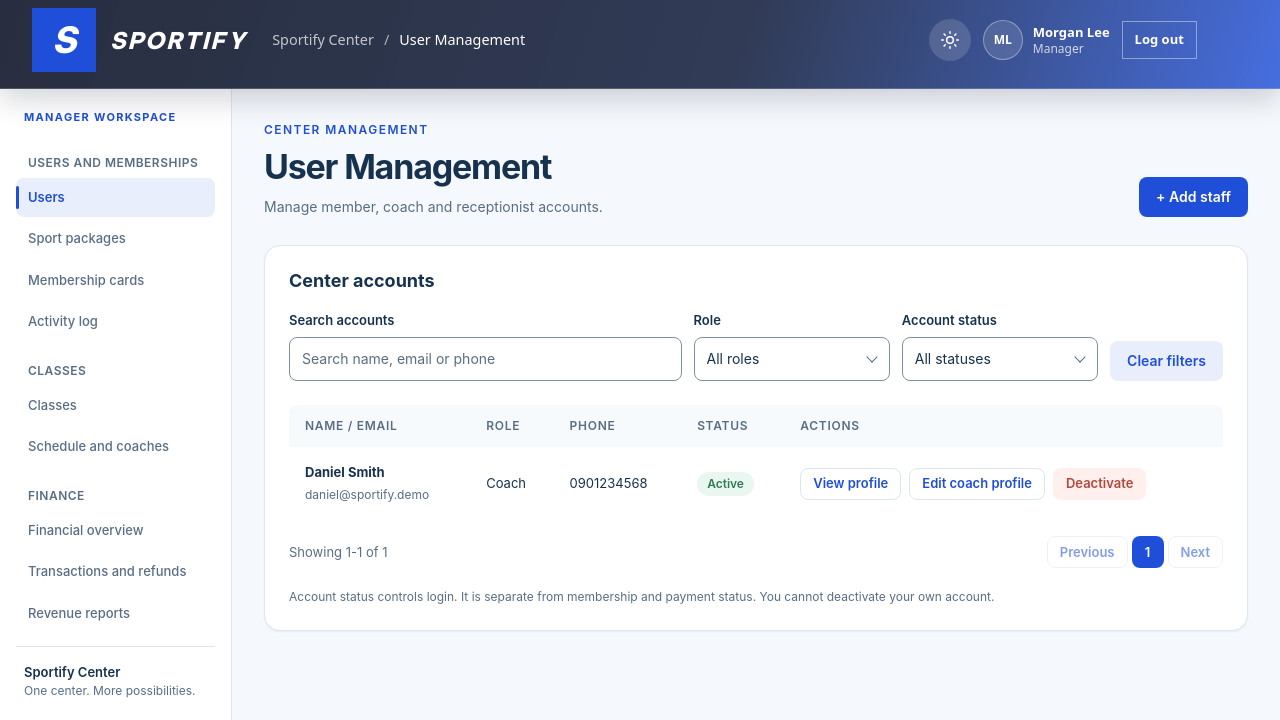
FE-06 manager access and accounts › retains inputs and shows backend field errors for duplicate staff emails
Click the button "+ Add staff": (1194, 197) [1139,177,1248,217]
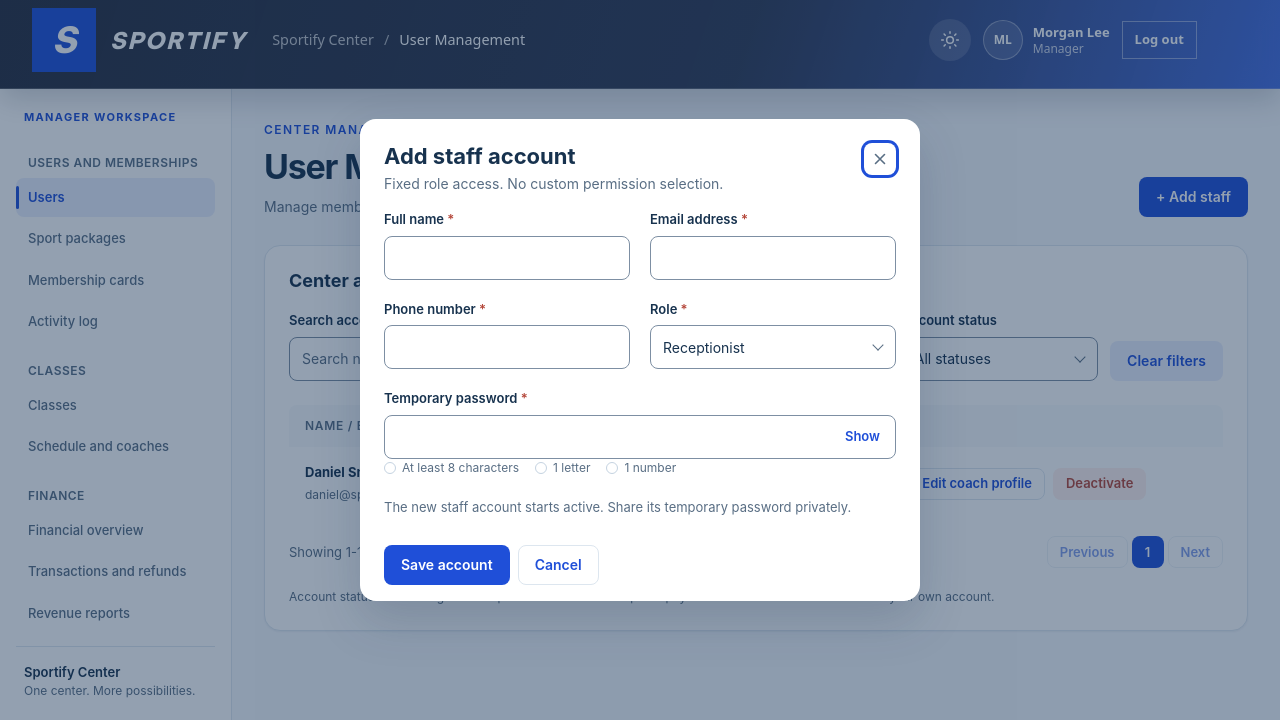
In the field labelled "Full name *": (507, 258) [384,236,630,280], type "Reception Example"
In the field labelled "Email address *": (773, 258) [650,236,896,280], type "existing@example.com"
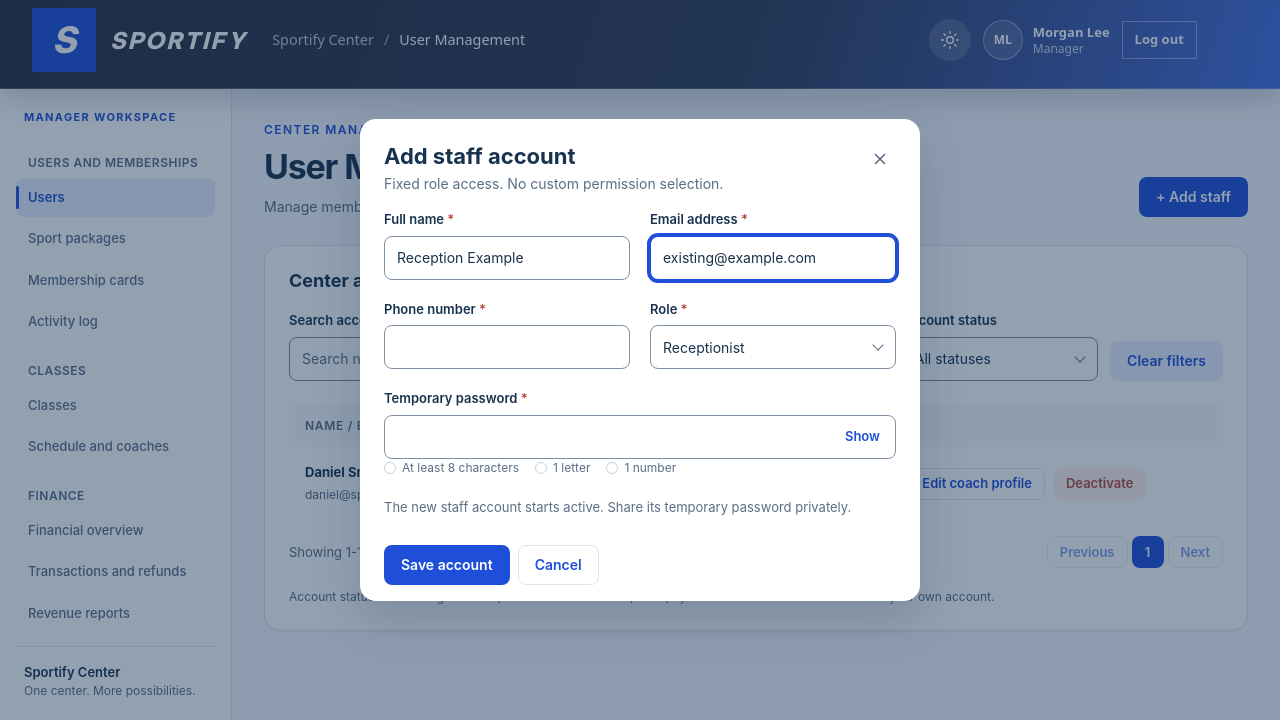
In the field labelled "Phone number *": (507, 347) [384,325,630,369], type "0901234567"
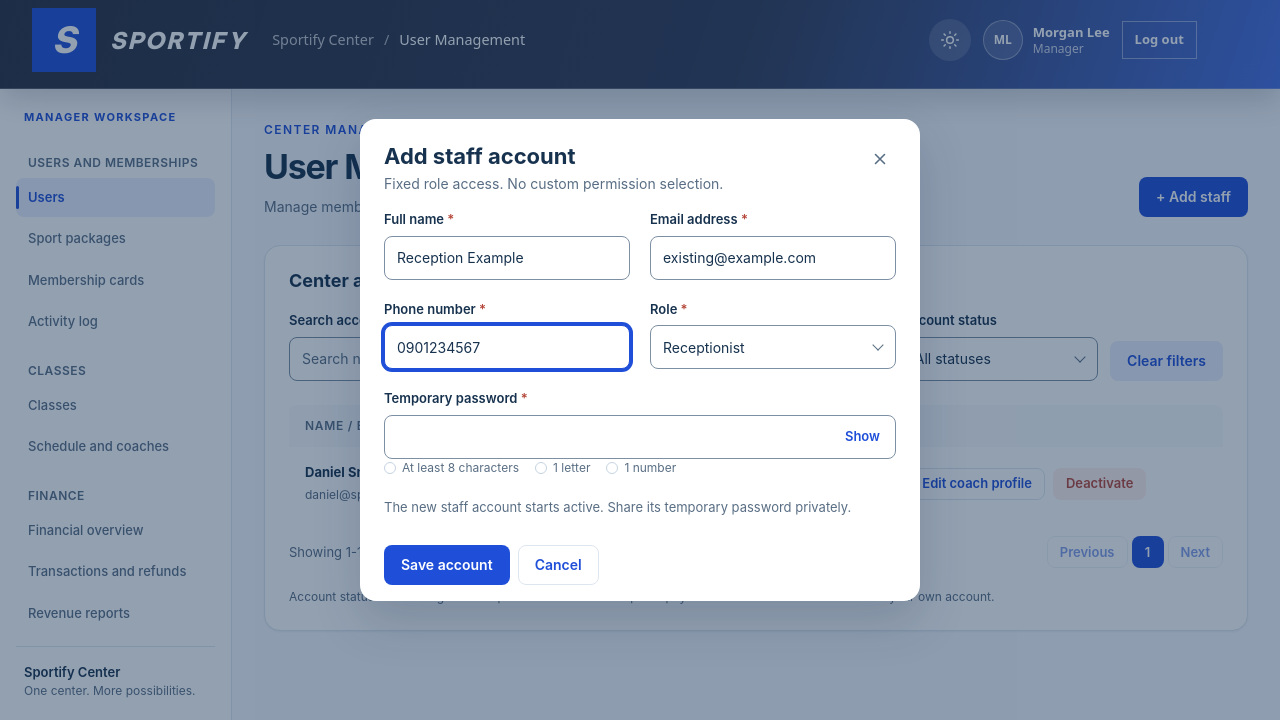
In the password field labelled "Temporary password *": (640, 436) [384,414,896,458], type "Example123"
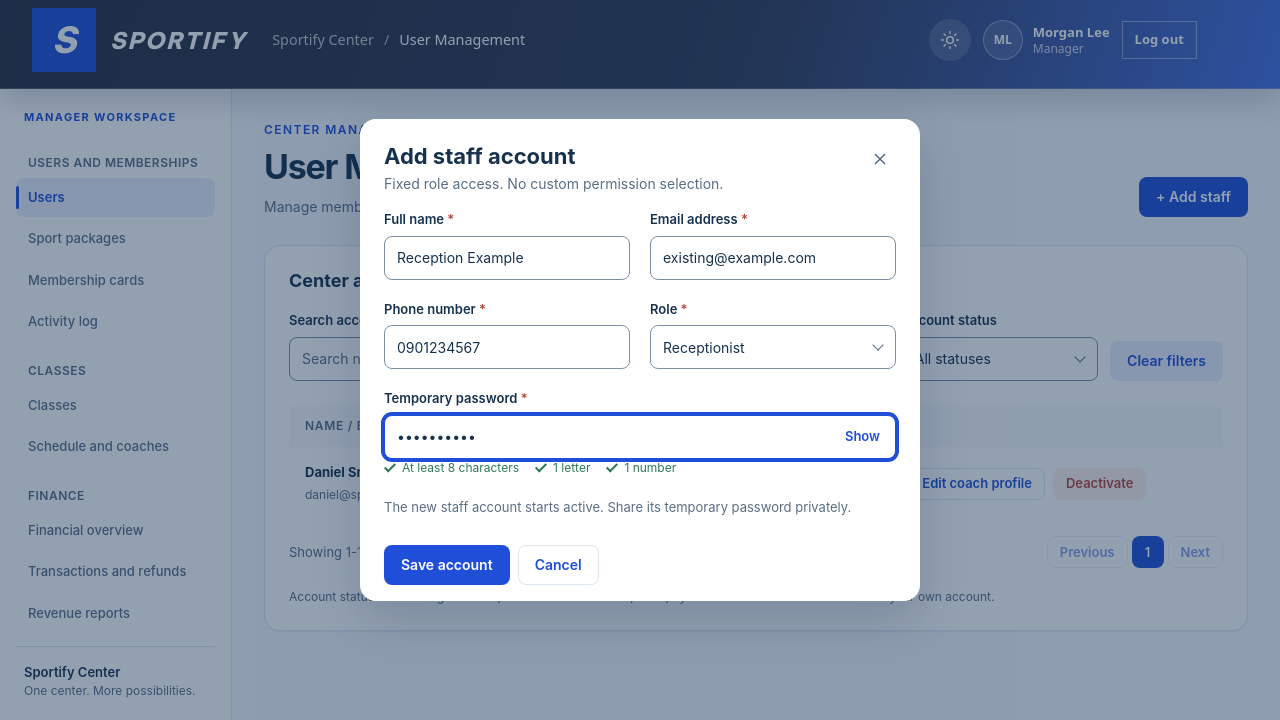
Click the button "Save account": (447, 565) [384,545,510,585]
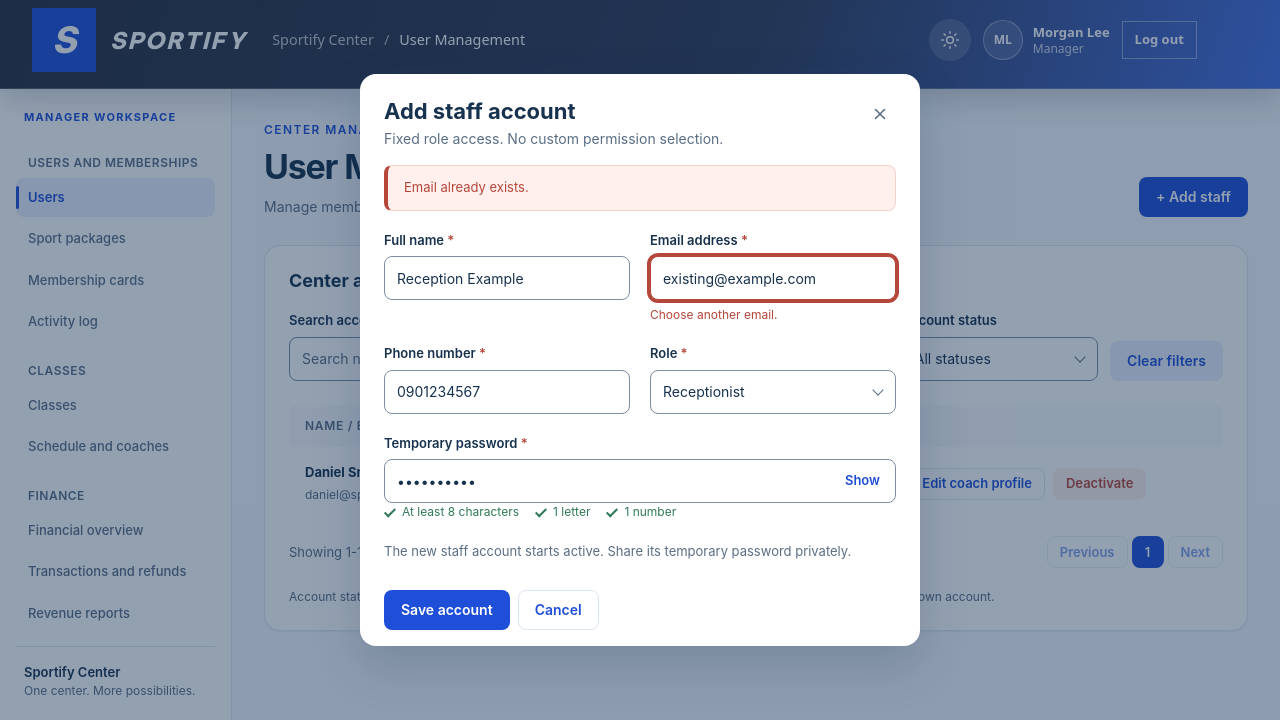
Expected: the text "Choose another email." is shown, [650,307,777,322]
Press Escape
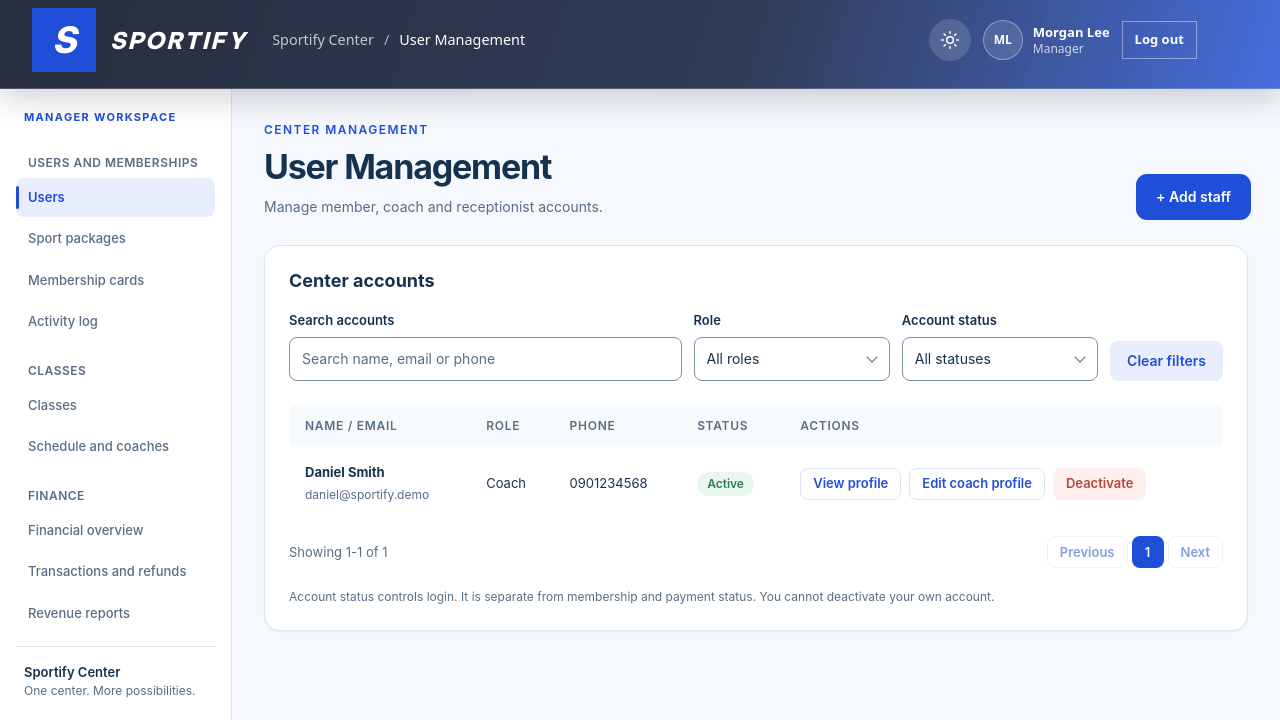
Expected: the dialog is gone
